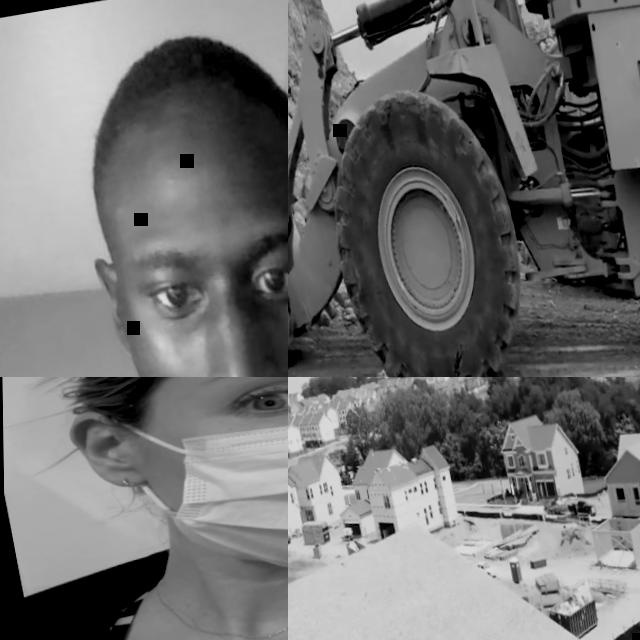Mask: (114, 377, 288, 599)
NO-Hardhat: (60, 15, 288, 197)
NO-Safety Vest: (26, 521, 288, 640)
Person: (0, 0, 288, 377), (0, 377, 288, 640)
machinery: (288, 0, 640, 377)
vehicle: (565, 495, 595, 520)
